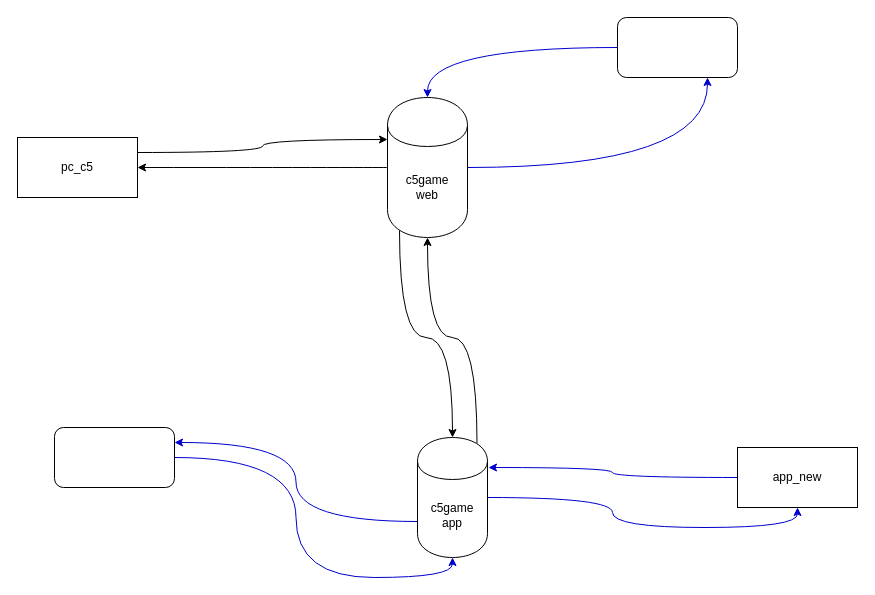
This 875x595 diagram has some shape labels left out. The shapes that lost their labels are listed below. From the top down, each one's centre as x and y in pixels, then its label:
the point at 677,47: app_old
the point at 114,457: pc_zbt
